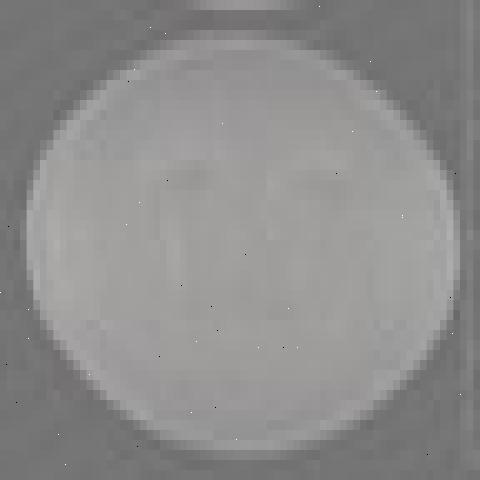Pill: (11, 28, 472, 466)
